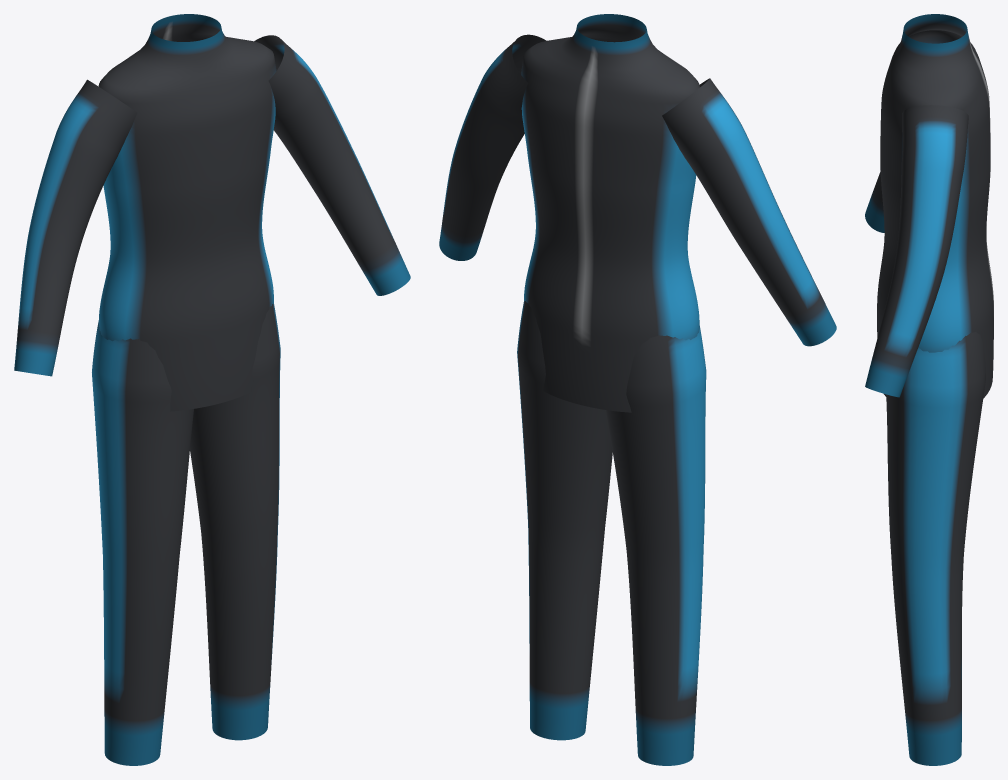
Rendered from combi-43.glb.
3 renders of one model, left to right at view 1: azimuth 30°, elevation 25°; view 2: azimuth 150°, elevation 25°; view 3: azimuth 270°, elevation 25°, orthographic. The views are drawn at different scales.
Visible parts, largest first — view 1: torse, jambe-1, jambe1, bras-1, bras1; view 2: torse, jambe-1, jambe1, bras-1, bras1; view 3: jambe1, torse, bras1, bras-1.
Boxes of the visible parts, box(x1,y1,x2,y2) form: torse: box(98, 14, 276, 411); jambe-1: box(92, 322, 193, 765); jambe1: box(190, 303, 280, 740); bras-1: box(14, 79, 137, 376); bras1: box(254, 35, 410, 295); torse: box(521, 14, 699, 412); jambe-1: box(605, 326, 706, 765); jambe1: box(517, 301, 612, 740); bras-1: box(662, 78, 836, 346); bras1: box(439, 34, 546, 260); jambe1: box(886, 332, 985, 765); torse: box(877, 14, 993, 398); bras1: box(865, 105, 968, 397); bras-1: box(865, 171, 884, 232).
Bounding box in the file's own units: 0.8376 × 1.46 × 0.2427.
